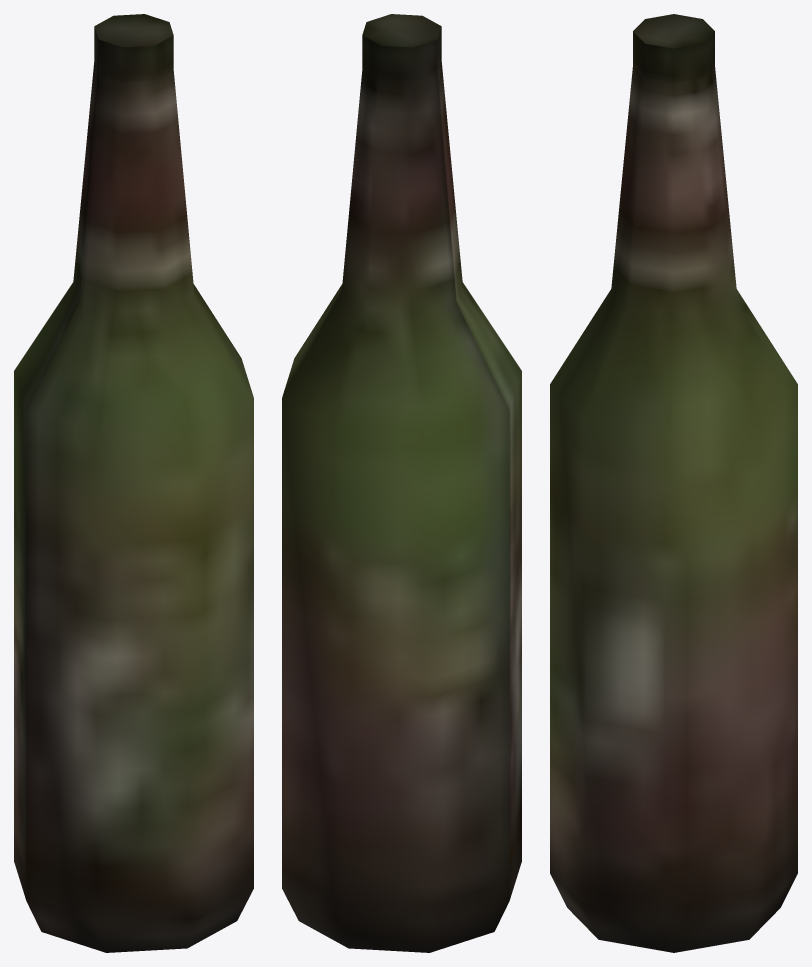
The model's file is garbage_glassbottle003a.glb.
3 views of the same model, side by side, from view 1: azimuth 30°, elevation 25°; view 2: azimuth 150°, elevation 25°; view 3: azimuth 270°, elevation 25° (orthographic).
Parts seen in each view (by area): view 1: 0_garbage001a_01; view 2: 0_garbage001a_01; view 3: 0_garbage001a_01.
Part boxes in pixels (bbox=[...]): 0_garbage001a_01: bbox=[14, 14, 253, 952]; 0_garbage001a_01: bbox=[282, 14, 521, 952]; 0_garbage001a_01: bbox=[550, 14, 797, 952].
Size of the model in its own units: 0.1048 by 0.4088 by 0.1048.
1 material, 1 textured.
